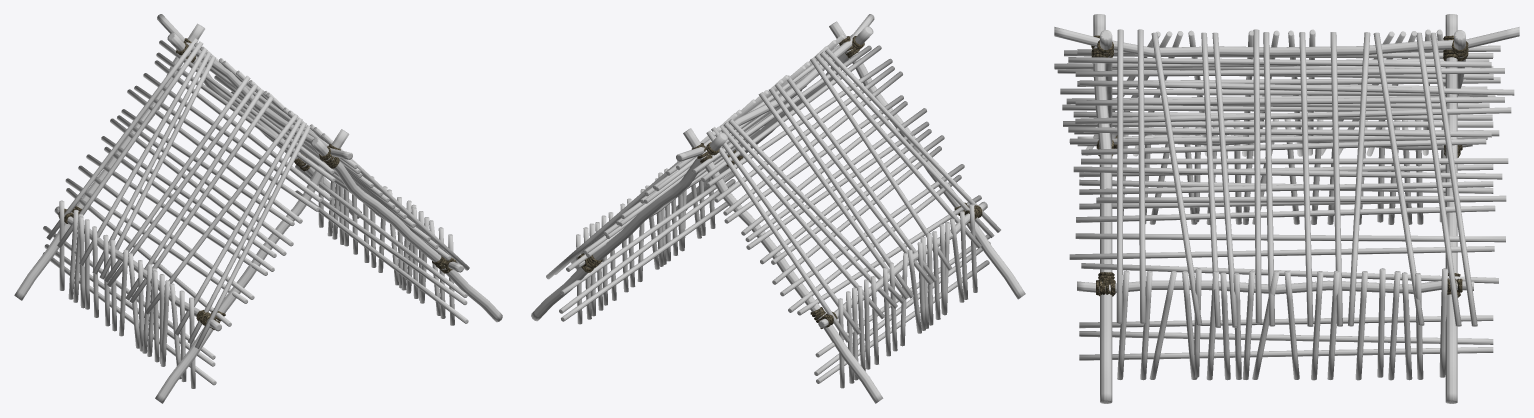
Rendered from highpoly_viking_tent_009.obj.
The picture shows the model from 3 angles, left to right: view 1: azimuth 30°, elevation 25°; view 2: azimuth 150°, elevation 25°; view 3: azimuth 270°, elevation 25°; orthographic projection. The views are drawn at different scales.
Parts seen in each view (by area): view 1: Cylinder.067, Cylinder.068, Cylinder.070, Cylinder.312, Cylinder.069, Cylinder.309, Cylinder.310, Cylinder.311, Cylinder.307, Cylinder.302, Cylinder.300, Cylinder.308 (+39 smaller); view 2: Cylinder.070, Cylinder.071, Cylinder.068, Cylinder.069, Cylinder.310, Cylinder.306, Cylinder.300, Cylinder.307, Cylinder.305, Cylinder.302, Cylinder.312, Cylinder.308 (+37 smaller); view 3: Cylinder.069, Cylinder.067, Cylinder.071, Cylinder.384, Cylinder.376, Cylinder.378, Cylinder.383, Cylinder.388, Cylinder.374, Cylinder.387, Cylinder.377, Cylinder.379 (+63 smaller).
Part boxes in pixels (left/top/right/bottom): Cylinder.067: left=311, top=137, right=502, bottom=322; Cylinder.068: left=155, top=129, right=349, bottom=403; Cylinder.070: left=14, top=23, right=204, bottom=300; Cylinder.312: left=195, top=125, right=310, bottom=349; Cylinder.069: left=157, top=14, right=352, bottom=159; Cylinder.309: left=79, top=48, right=207, bottom=265; Cylinder.310: left=174, top=117, right=302, bottom=335; Cylinder.311: left=188, top=121, right=306, bottom=344; Cylinder.307: left=99, top=55, right=215, bottom=279; Cylinder.302: left=104, top=76, right=250, bottom=282; Cylinder.300: left=46, top=38, right=198, bottom=239; Cylinder.308: left=92, top=52, right=211, bottom=274; Cylinder.070: left=683, top=128, right=883, bottom=403; Cylinder.071: left=531, top=132, right=727, bottom=321; Cylinder.068: left=829, top=21, right=1025, bottom=299; Cylinder.069: left=676, top=14, right=874, bottom=161; Cylinder.310: left=815, top=54, right=981, bottom=248; Cylinder.306: left=769, top=87, right=913, bottom=298; Cylinder.300: left=706, top=130, right=850, bottom=342; Cylinder.307: left=728, top=119, right=904, bottom=303; Cylinder.305: left=775, top=83, right=932, bottom=284; Cylinder.302: left=758, top=92, right=908, bottom=299; Cylinder.312: left=825, top=48, right=1000, bottom=232; Cylinder.308: left=723, top=122, right=897, bottom=308; Cylinder.069: left=1054, top=27, right=1519, bottom=57; Cylinder.067: left=1093, top=14, right=1112, bottom=403; Cylinder.071: left=1445, top=14, right=1457, bottom=403; Cylinder.384: left=1081, top=158, right=1508, bottom=164; Cylinder.376: left=1079, top=80, right=1514, bottom=95; Cylinder.378: left=1075, top=107, right=1511, bottom=124; Cylinder.383: left=1073, top=166, right=1502, bottom=179; Cylinder.388: left=1075, top=233, right=1505, bottom=242; Cylinder.374: left=1068, top=57, right=1491, bottom=67; Cylinder.387: left=1069, top=246, right=1494, bottom=259; Cylinder.377: left=1068, top=127, right=1491, bottom=137; Cylinder.379: left=1075, top=97, right=1504, bottom=105.
Size of the model in its own units: 7.45 by 4.72 by 7.06.
